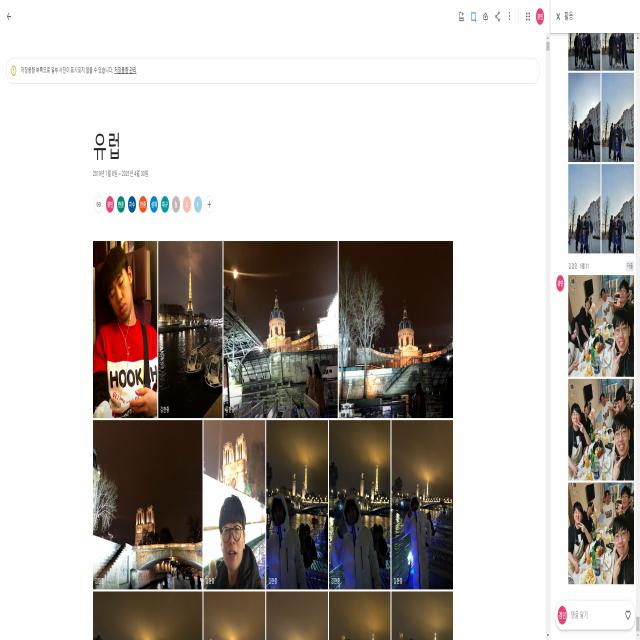menu-bar: (458, 6, 545, 31)
